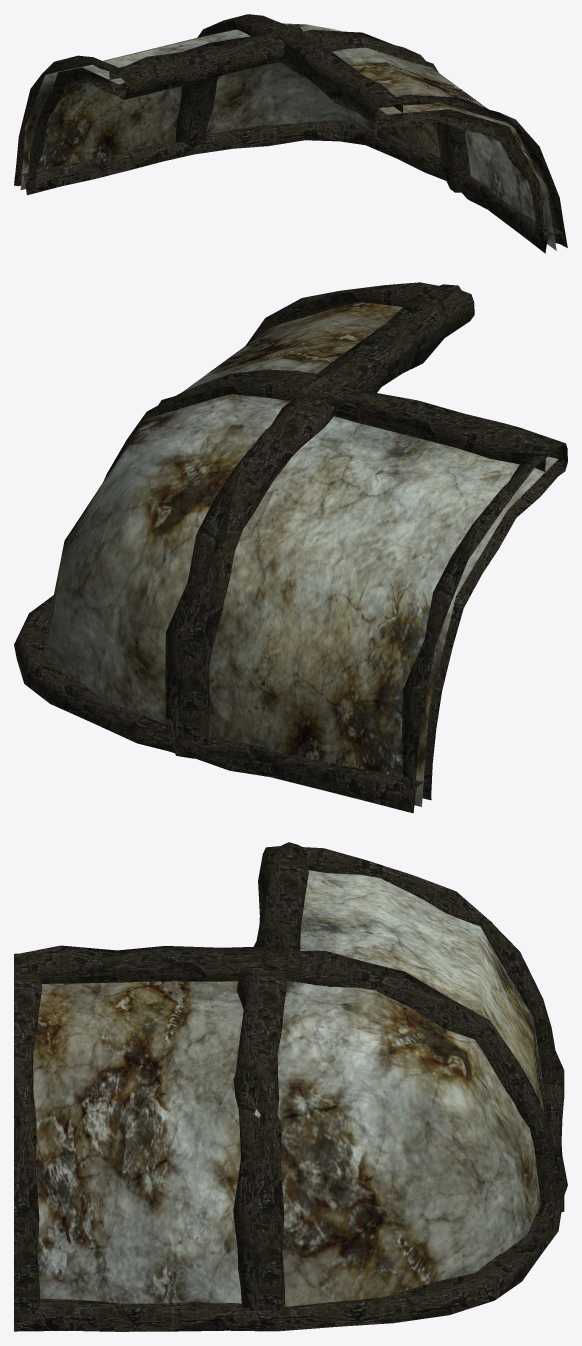
File: corner_concave_round.dae
The picture shows the model from 3 angles, top to bottom: view 1: azimuth 30°, elevation 25°; view 2: azimuth 150°, elevation 25°; view 3: azimuth 270°, elevation 25°; orthographic projection. The views are drawn at different scales.
Visible parts, largest first — view 1: polySurface81, pPlane2; view 2: pPlane2, polySurface81; view 3: pPlane2, polySurface81.
Boxes of the visible parts, bbox=[...] form: polySurface81: bbox=[14, 14, 567, 253]; pPlane2: bbox=[20, 23, 556, 250]; pPlane2: bbox=[46, 302, 558, 806]; polySurface81: bbox=[14, 282, 567, 813]; pPlane2: bbox=[33, 870, 543, 1306]; polySurface81: bbox=[14, 842, 567, 1331].
Size of the model in its own units: 4.16 by 2.16 by 4.16.
